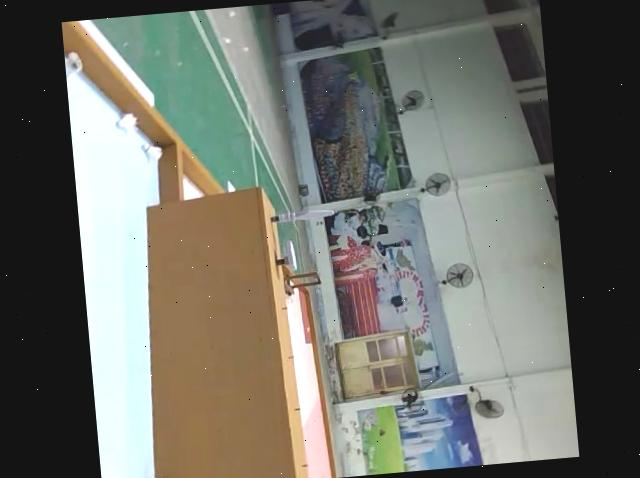Hand: (272, 237, 297, 269)
Sph: (268, 203, 337, 227)
